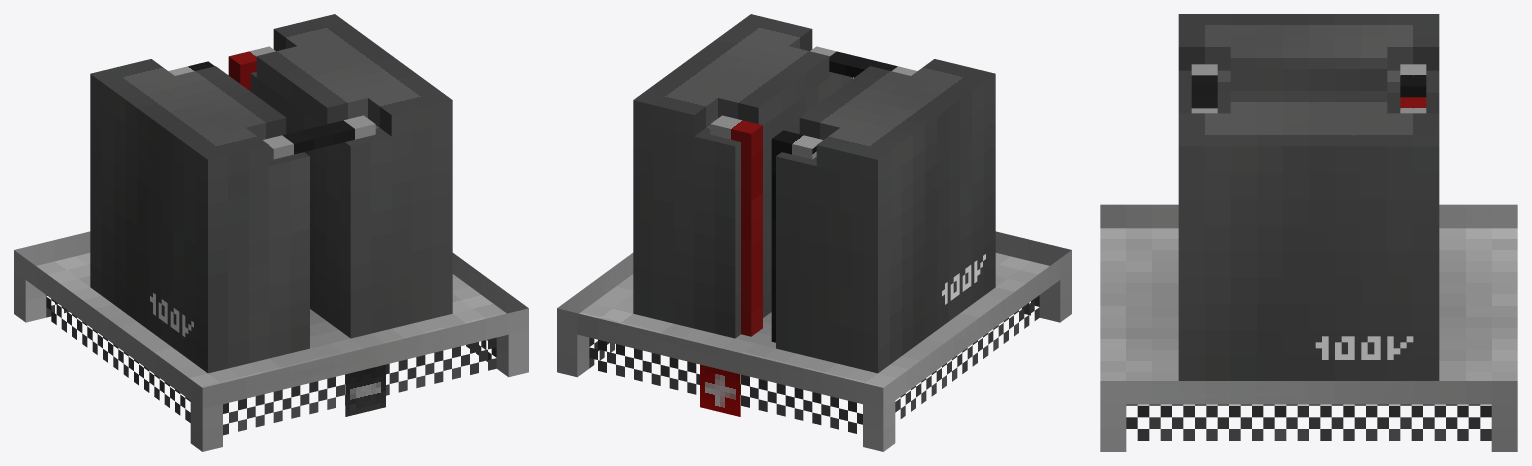
File: BatteryBigHV.obj
3 views of the same model, side by side, from view 1: azimuth 30°, elevation 25°; view 2: azimuth 150°, elevation 25°; view 3: azimuth 270°, elevation 25° (orthographic). The views are drawn at different scales.
Visible parts, largest first — view 1: battery_highvoltage, main, plugMinus; view 2: battery_highvoltage, main, plugPlus; view 3: battery_highvoltage, main.
Boxes of the visible parts, box(x1,y1,x2,y2) form: battery_highvoltage: box(90, 14, 452, 373); main: box(14, 231, 528, 451); plugMinus: box(345, 364, 385, 416); battery_highvoltage: box(633, 14, 995, 373); main: box(557, 231, 1071, 451); plugPlus: box(700, 364, 740, 416); battery_highvoltage: box(1178, 14, 1439, 380); main: box(1100, 204, 1517, 451).
Size of the model in its own units: 1 by 0.75 by 1.
